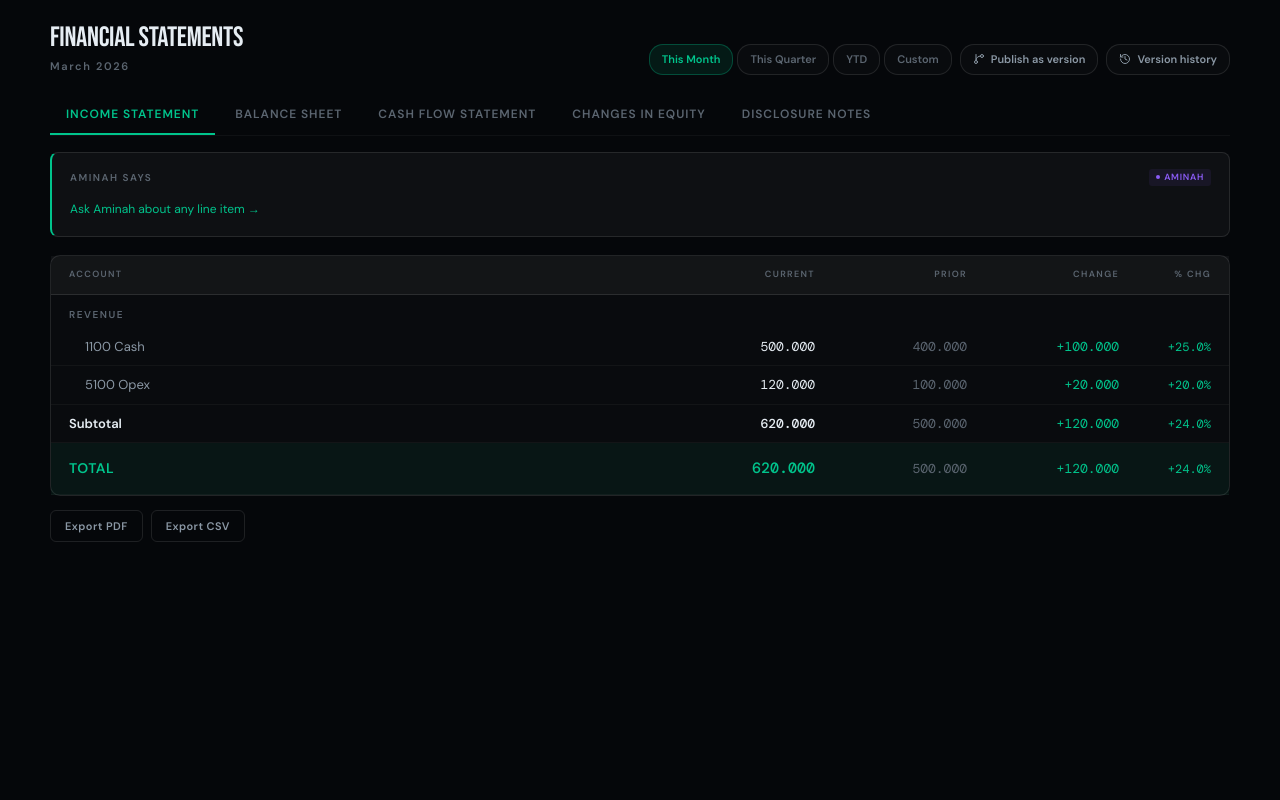
Test: IAS 8 restatement watermark (HASEEB-216) › renders the watermark banner on the Balance Sheet tab when active
Click the button "BALANCE SHEET": coordinates (289, 114) [219,92,358,134]
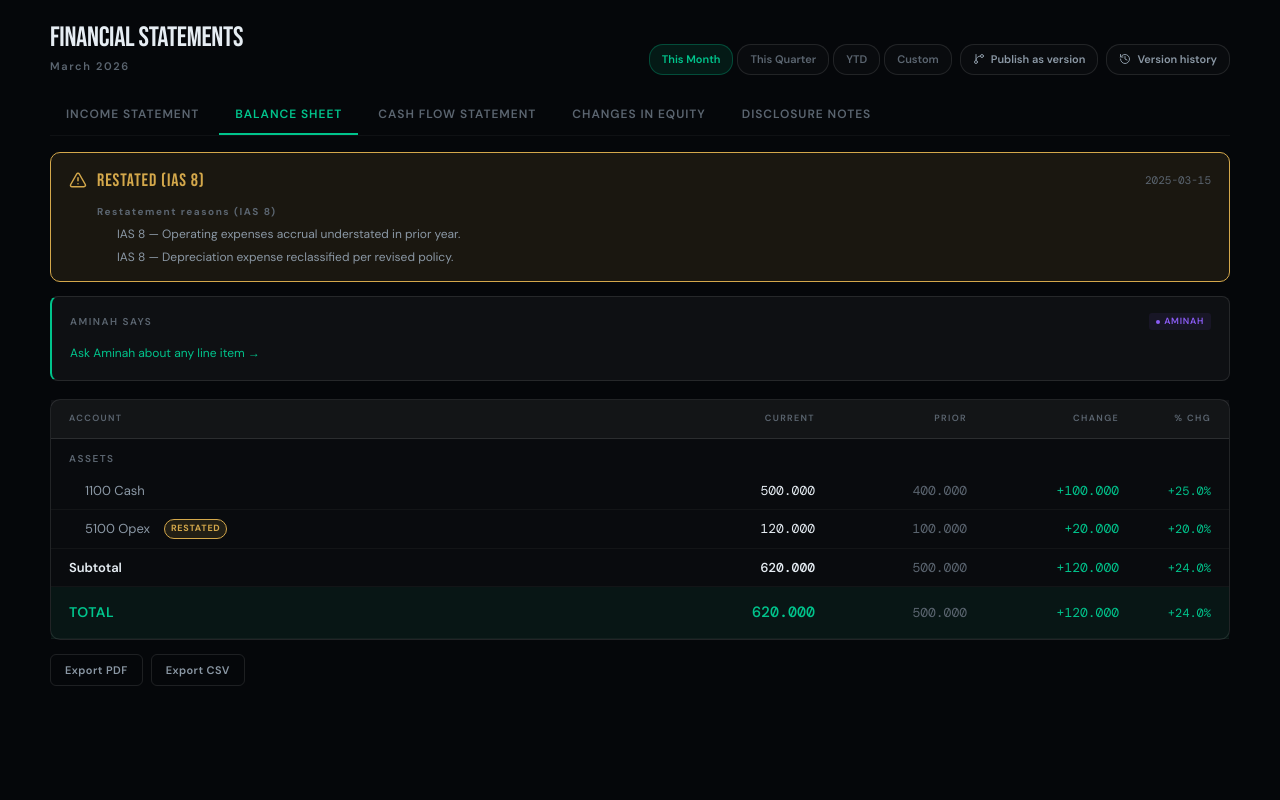
expect the message with test id "restatement-watermark" is shown: met, box [50,152,1230,282]
expect the text "Restated (IAS 8)" is shown: met, box [97,166,205,194]
expect the list item "Operating expenses accrual" is shown: met, box [117,226,460,242]
